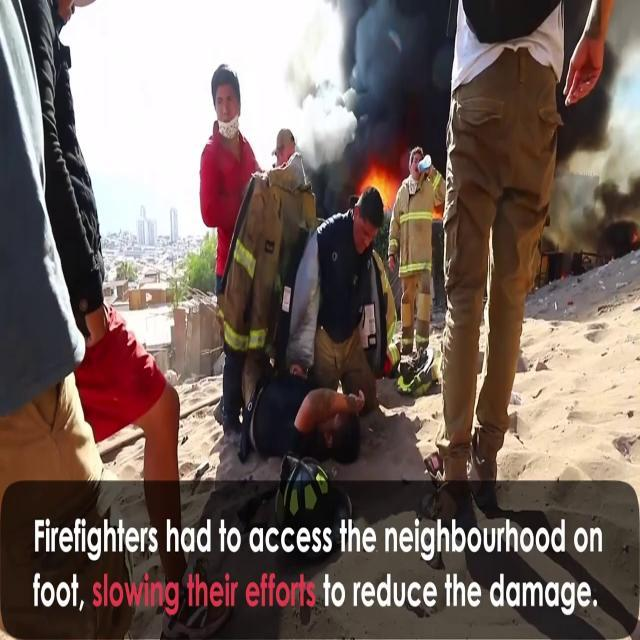Fire: (359, 160, 399, 207)
Smoke: (277, 2, 447, 170), (554, 0, 640, 252)
